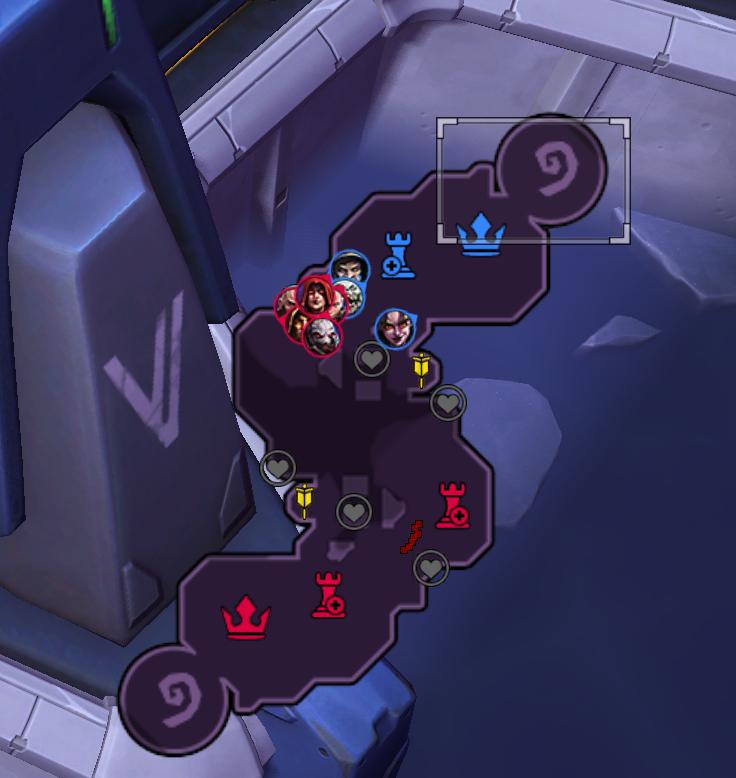blue nexus: (454, 212, 505, 258)
blue player: (374, 308, 416, 351), (329, 249, 369, 287), (333, 278, 364, 317), (287, 309, 311, 343), (329, 287, 348, 320)
blue tower: (382, 230, 417, 277)
red nexus: (220, 593, 273, 641)
red player: (288, 274, 346, 339), (330, 253, 367, 315), (297, 275, 337, 317), (304, 317, 339, 355), (274, 285, 302, 326)
red tower: (310, 569, 347, 618), (434, 479, 470, 528)
